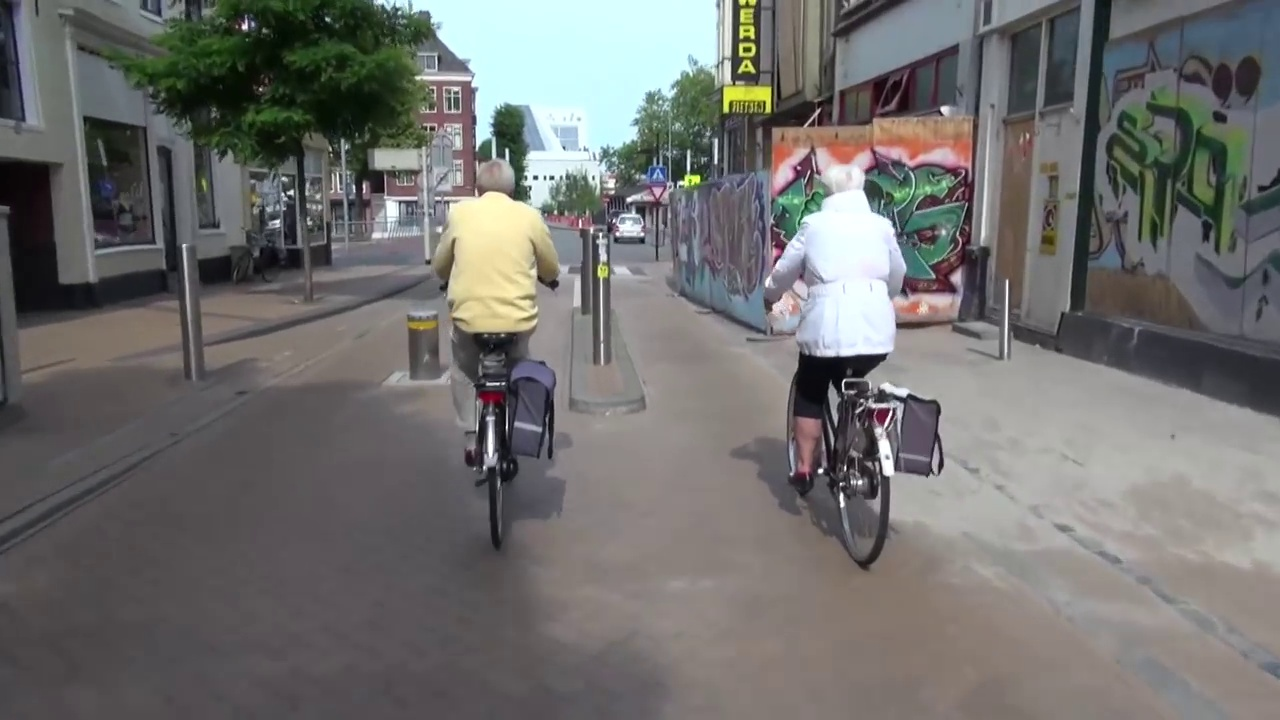cyclist_back: (766, 161, 945, 579), (429, 157, 561, 553)
